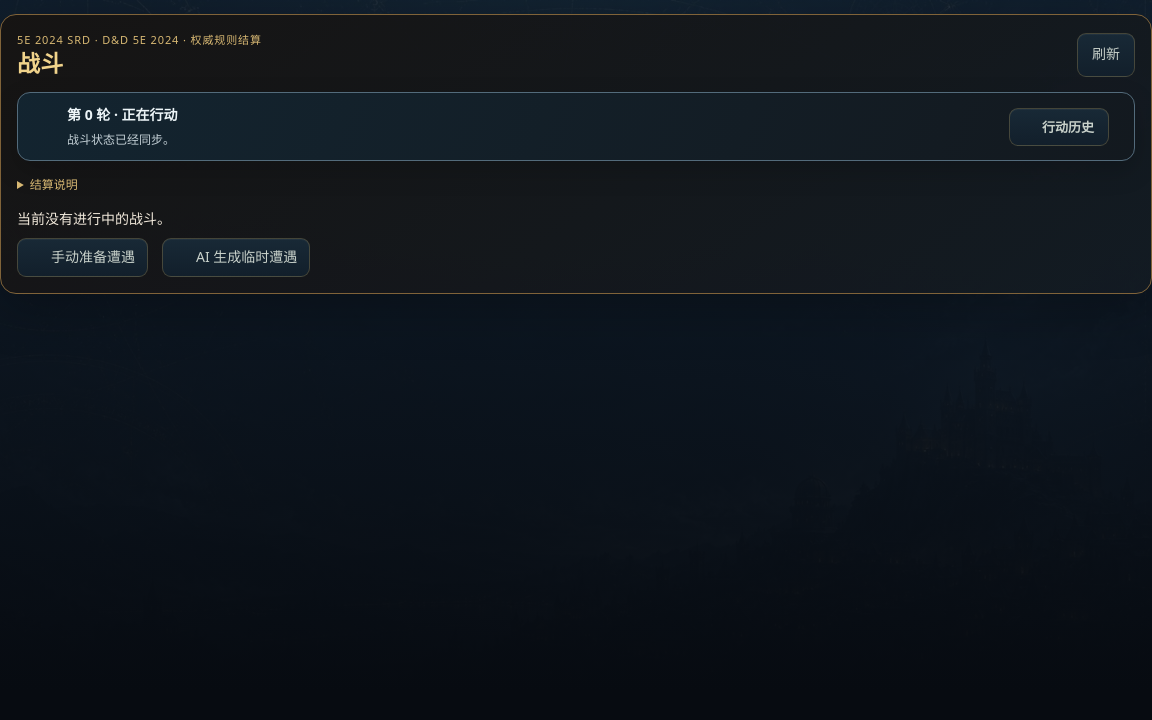
it: D&D 2024 combat panel › shows an encounter summary instead of the full enemy editor by default
The width and height of the screenshot is (1152, 720).
Click the button with class "ai-encounter-toggle" at coordinates (236, 258), box [162,238,310,277]
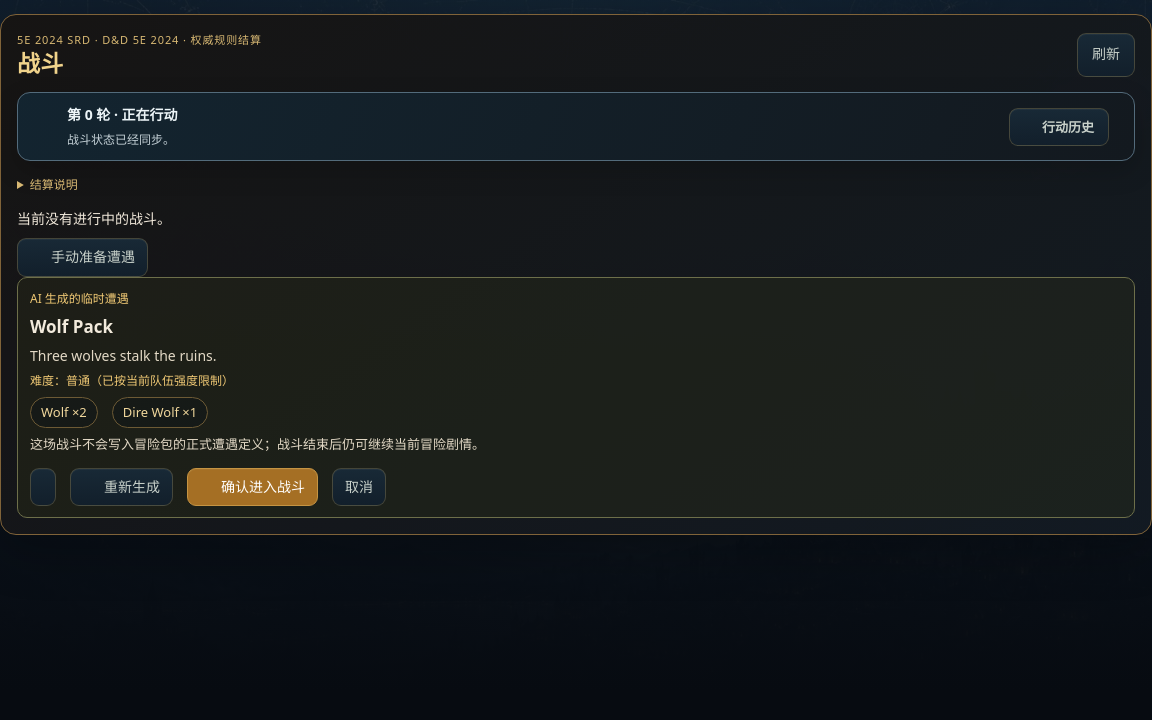
Now the button with class "ai-encounter-edit" is shown, box [30,468,56,506]
